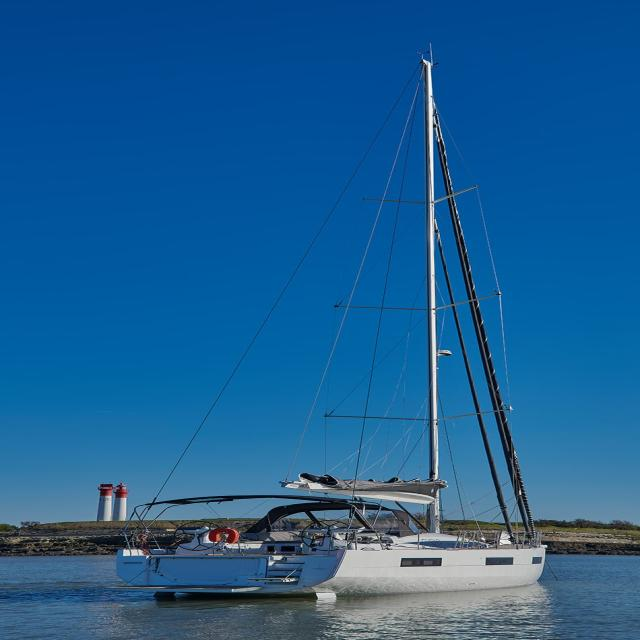boat: (117, 42, 579, 611)
